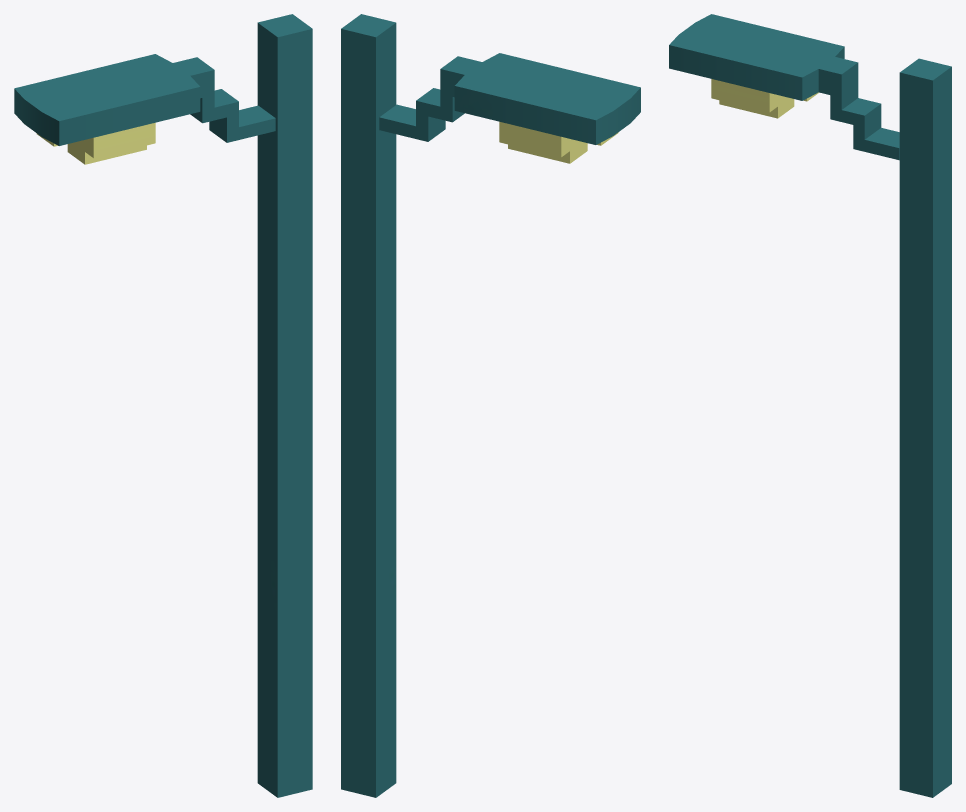
File: posteluz_2.FBX
3 views of the same model, side by side, from view 1: azimuth 30°, elevation 25°; view 2: azimuth 150°, elevation 25°; view 3: azimuth 330°, elevation 25° (orthographic). The views are drawn at different scales.
Parts seen in each view (by area): view 1: posteluz; view 2: posteluz; view 3: posteluz.
Part boxes in pixels (left/top/right/bottom): posteluz: left=14, top=14, right=312, bottom=797; posteluz: left=341, top=14, right=640, bottom=797; posteluz: left=669, top=14, right=951, bottom=797.
Size of the model in its own units: 1.44 by 3.88 by 0.4158.
